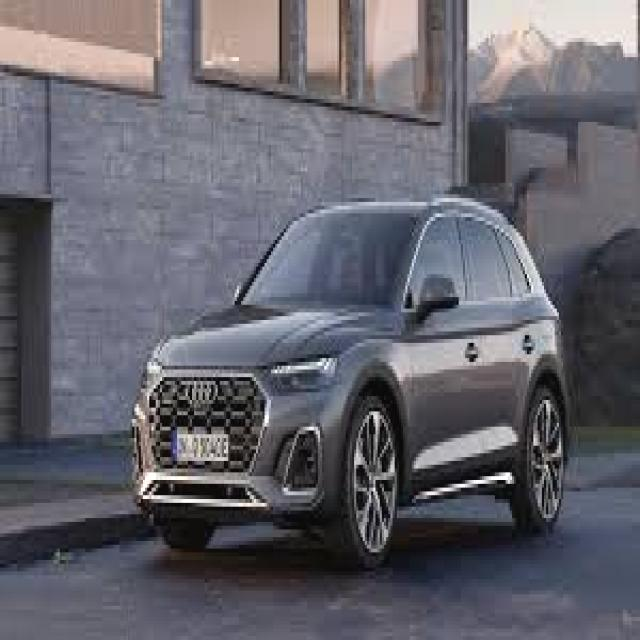SUV: (135, 202, 565, 568)
